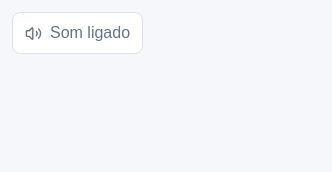
ActivitySoundToggle › persists the new preference when toggled off
Click the button with aria-label "Desativar efeitos sonoros": (78, 33) [12,12,143,54]
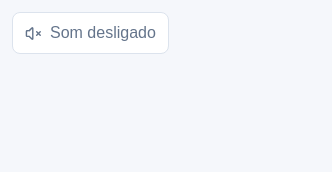
expect the button with aria-label "Ativar efeitos sonoros" is not pressed: met, box [12,12,169,54]
